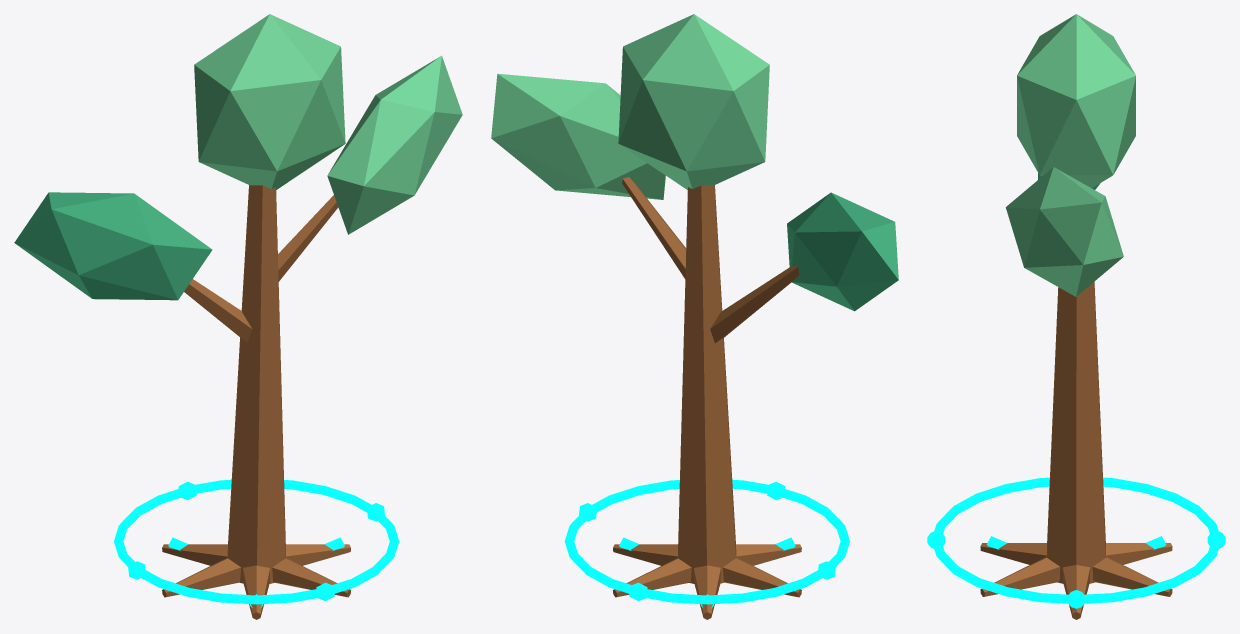
The model's file is seedling.glb.
3 renders of one model, left to right at view 1: azimuth 30°, elevation 25°; view 2: azimuth 150°, elevation 25°; view 3: azimuth 270°, elevation 25°, orthographic.
Visible parts, largest first — view 1: Leaf_Top, Young_Stem, Leaf_Left, Leaf_Right, Chrono_Energy_Ring, Left_Stem, Right_Stem, Root_04, Root_06, Root_03, Root_01, Root_05; view 2: Leaf_Top, Young_Stem, Leaf_Right, Leaf_Left, Chrono_Energy_Ring, Left_Stem, Right_Stem, Root_04, Root_02, Root_05, Root_01, Root_03; view 3: Leaf_Top, Young_Stem, Leaf_Right, Chrono_Energy_Ring, Root_02, Root_06, Root_03, Root_05, Root_01.
Boxes of the visible parts, left/top/right/bottom form: Leaf_Top: left=194, top=14, right=345, bottom=189; Young_Stem: left=227, top=185, right=285, bottom=583; Leaf_Left: left=14, top=192, right=212, bottom=300; Leaf_Right: left=327, top=55, right=462, bottom=234; Chrono_Energy_Ring: left=114, top=479, right=399, bottom=604; Left_Stem: left=184, top=279, right=252, bottom=342; Right_Stem: left=278, top=195, right=338, bottom=281; Root_04: left=162, top=557, right=241, bottom=597; Root_06: left=272, top=558, right=350, bottom=597; Root_03: left=162, top=544, right=227, bottom=565; Root_01: left=286, top=544, right=350, bottom=565; Root_05: left=243, top=565, right=269, bottom=619; Leaf_Top: left=618, top=14, right=769, bottom=189; Young_Stem: left=678, top=185, right=736, bottom=583; Leaf_Right: left=491, top=73, right=665, bottom=199; Leaf_Left: left=787, top=192, right=898, bottom=311; Chrono_Energy_Ring: left=564, top=479, right=849, bottom=604; Left_Stem: left=710, top=265, right=798, bottom=343; Right_Stem: left=622, top=177, right=686, bottom=278; Root_04: left=722, top=557, right=801, bottom=597; Root_02: left=613, top=558, right=691, bottom=597; Root_05: left=736, top=544, right=801, bottom=565; Root_01: left=613, top=544, right=677, bottom=565; Root_03: left=694, top=565, right=720, bottom=619; Leaf_Top: left=1017, top=14, right=1135, bottom=188; Young_Stem: left=1046, top=281, right=1106, bottom=583; Leaf_Right: left=1005, top=167, right=1123, bottom=296; Chrono_Energy_Ring: left=932, top=477, right=1220, bottom=603; Root_02: left=1092, top=556, right=1172, bottom=596; Root_06: left=980, top=556, right=1060, bottom=596; Root_03: left=1106, top=543, right=1172, bottom=564; Root_05: left=980, top=543, right=1046, bottom=564; Root_01: left=1062, top=565, right=1090, bottom=619.
Size of the model in its own units: 1.29 by 1.62 by 0.7659.
